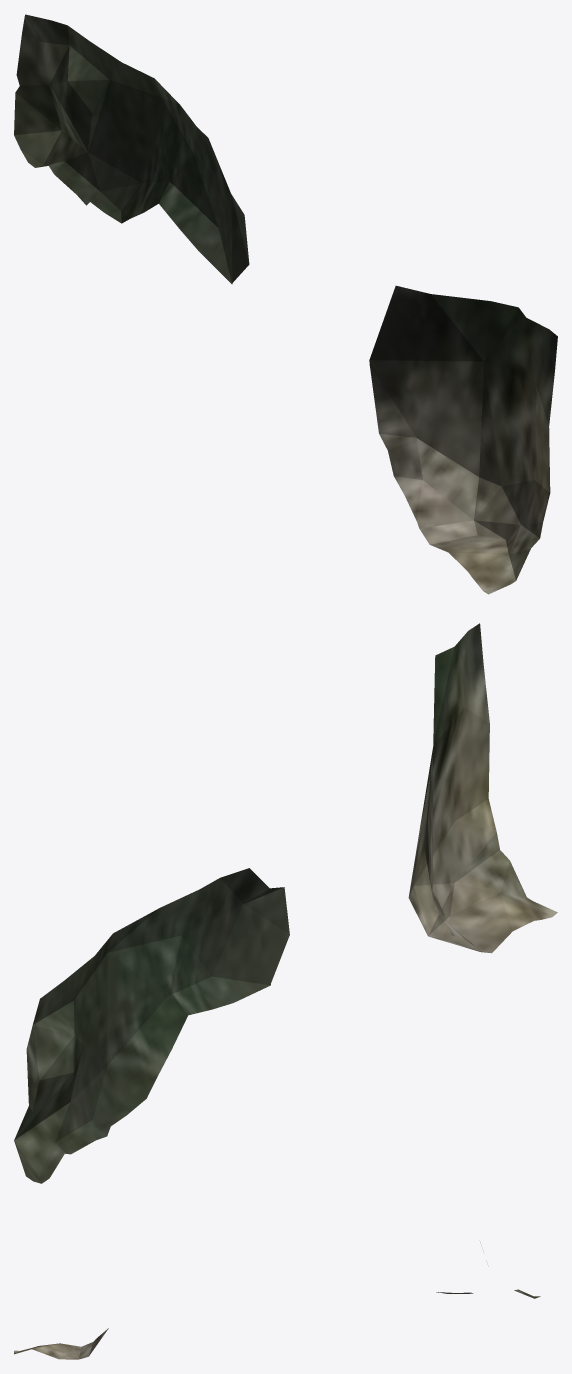
3 views of the same model, one above another, from view 1: azimuth 30°, elevation 25°; view 2: azimuth 150°, elevation 25°; view 3: azimuth 270°, elevation 25° (orthographic). The views are drawn at different scales.
Size of the model in its own units: 0.718 by 2.34 by 8.32.
1 material, 1 textured.
